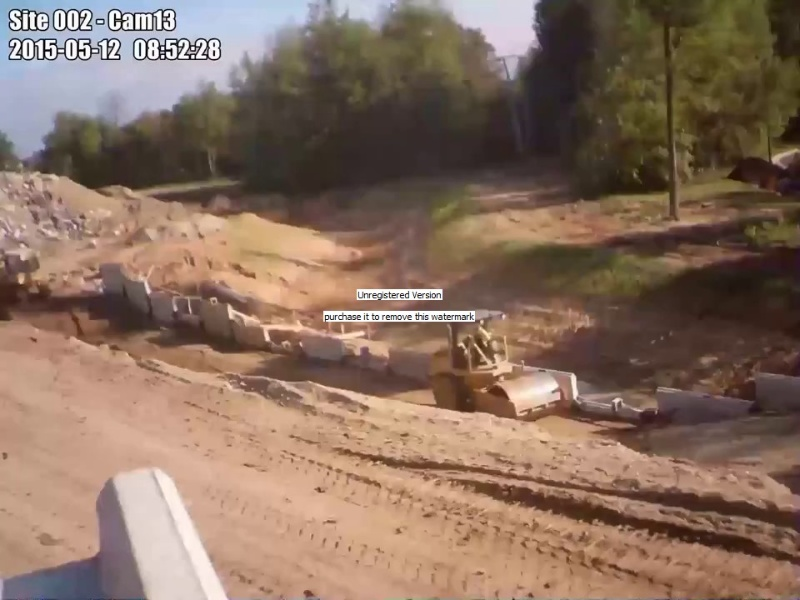roller: (427, 309, 563, 423)
wall: (99, 262, 431, 381)
